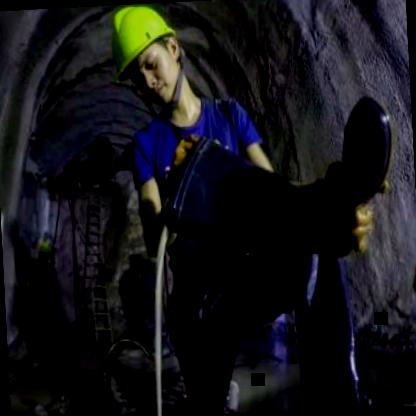helmet: (100, 1, 192, 111)
